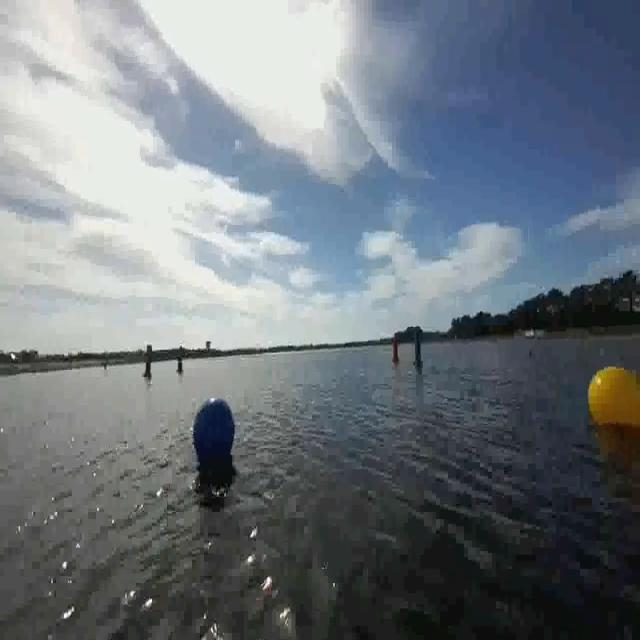blue-buoy: (191, 394, 235, 468)
green-column-buoy: (412, 327, 424, 367), (176, 346, 184, 374)
red-column-buoy: (143, 344, 153, 378), (389, 338, 398, 366)
yellow-buoy: (586, 364, 639, 434)
